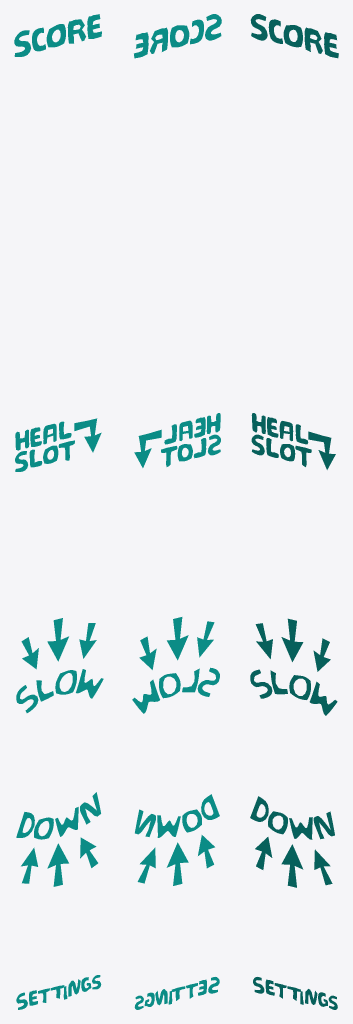
The picture shows the model from 3 angles, left to right: view 1: azimuth 30°, elevation 25°; view 2: azimuth 210°, elevation 25°; view 3: azimuth 330°, elevation 25°; orthographic projection.
Visible parts, largest first — view 1: mesh_text_slow, mesh_text_heal, mesh_text_score, mesh_text_settings; view 2: mesh_text_slow, mesh_text_heal, mesh_text_score, mesh_text_settings; view 3: mesh_text_slow, mesh_text_heal, mesh_text_score, mesh_text_settings.
Part boxes in pixels (<box>): mesh_text_slow: <box>16,618,103,886</box>; mesh_text_heal: <box>15,418,101,471</box>; mesh_text_score: <box>14,14,101,56</box>; mesh_text_settings: <box>16,975,101,1009</box>; mesh_text_slow: <box>132,617,219,885</box>; mesh_text_heal: <box>134,413,220,467</box>; mesh_text_score: <box>134,14,221,58</box>; mesh_text_settings: <box>134,977,219,1009</box>; mesh_text_slow: <box>250,618,337,887</box>; mesh_text_heal: <box>251,413,335,469</box>; mesh_text_score: <box>250,14,338,58</box>; mesh_text_settings: <box>253,977,337,1009</box>.
Bounding box in the file's own units: 0.0426 × 0.4521 × 0.00131.
